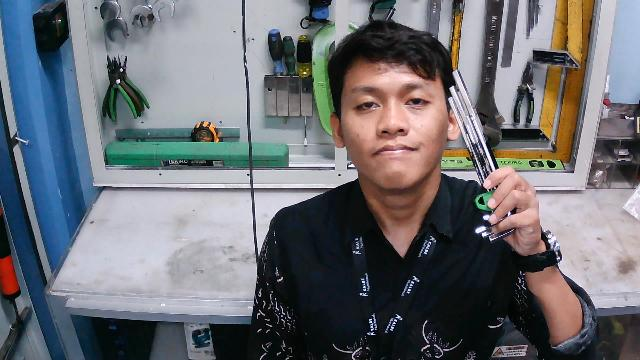kunci_l: (445, 65, 518, 243)
